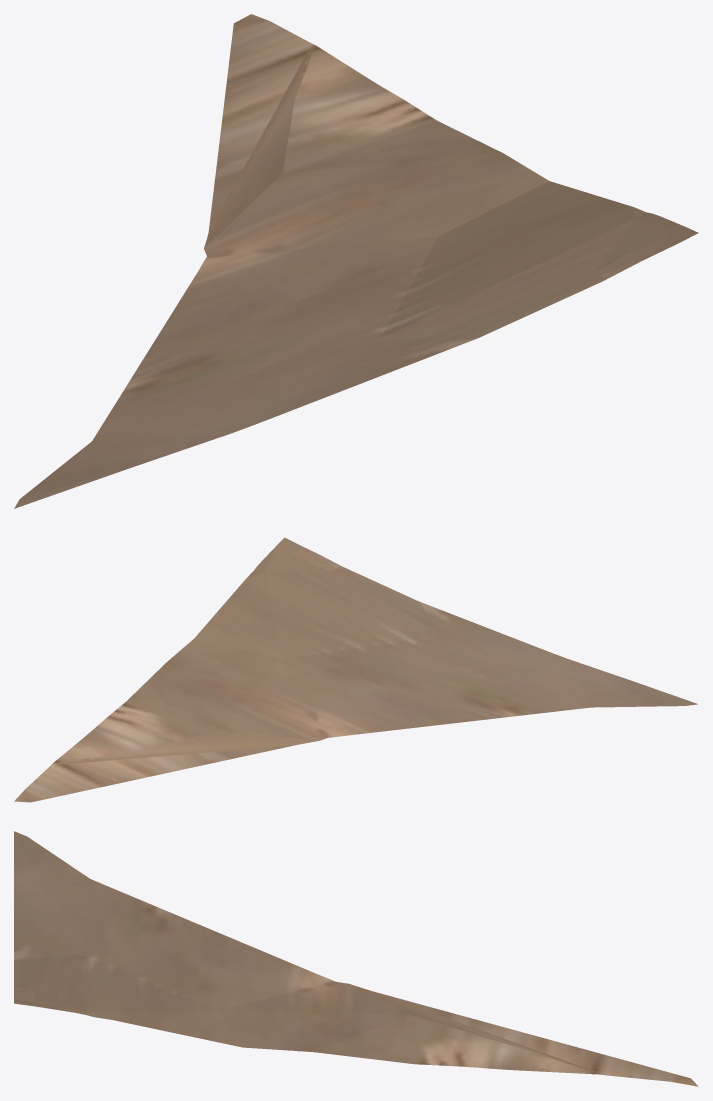
The picture shows the model from 3 angles, top to bottom: view 1: azimuth 30°, elevation 25°; view 2: azimuth 150°, elevation 25°; view 3: azimuth 270°, elevation 25°; orthographic projection. The views are drawn at different scales.
Bounding box in the file's own units: 0.8933 × 0.1356 × 1.01.
Materials: 1 (1 with a texture image).
